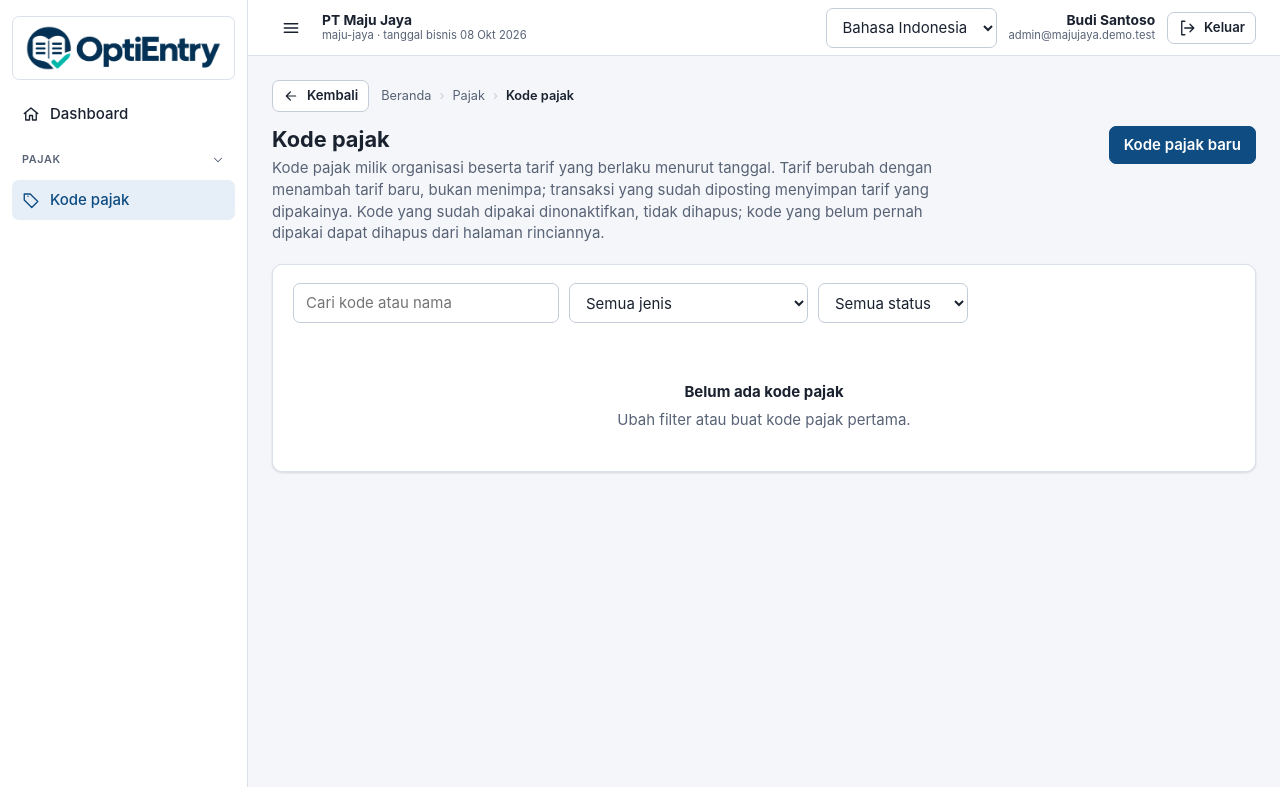
Test: tax codes list › creates a code with its first rate and sends the destination as neither account nor role (the type default)
Click the button "Kode pajak baru" at (1182, 145), box [1109, 126, 1256, 164]
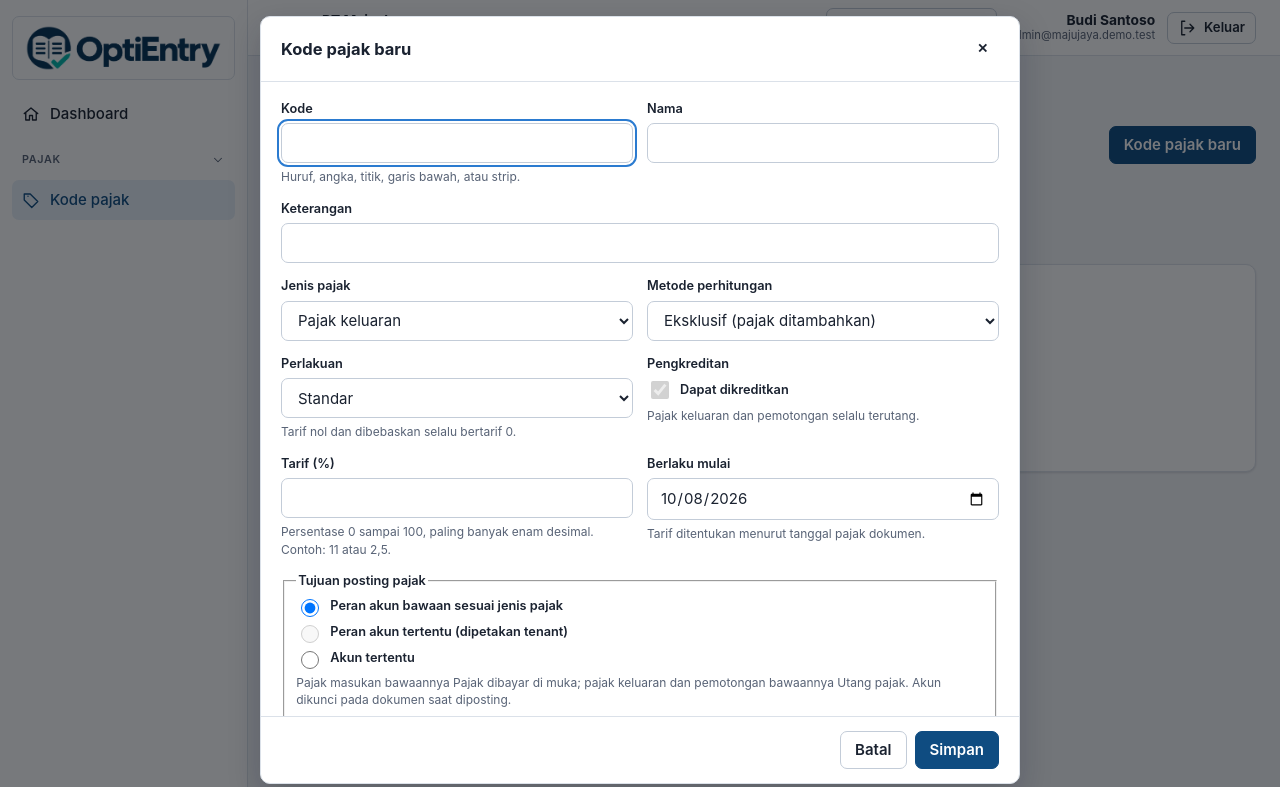
Type "ppn-keluaran" into the field labelled "Kode" at (457, 144), box [281, 124, 633, 164]
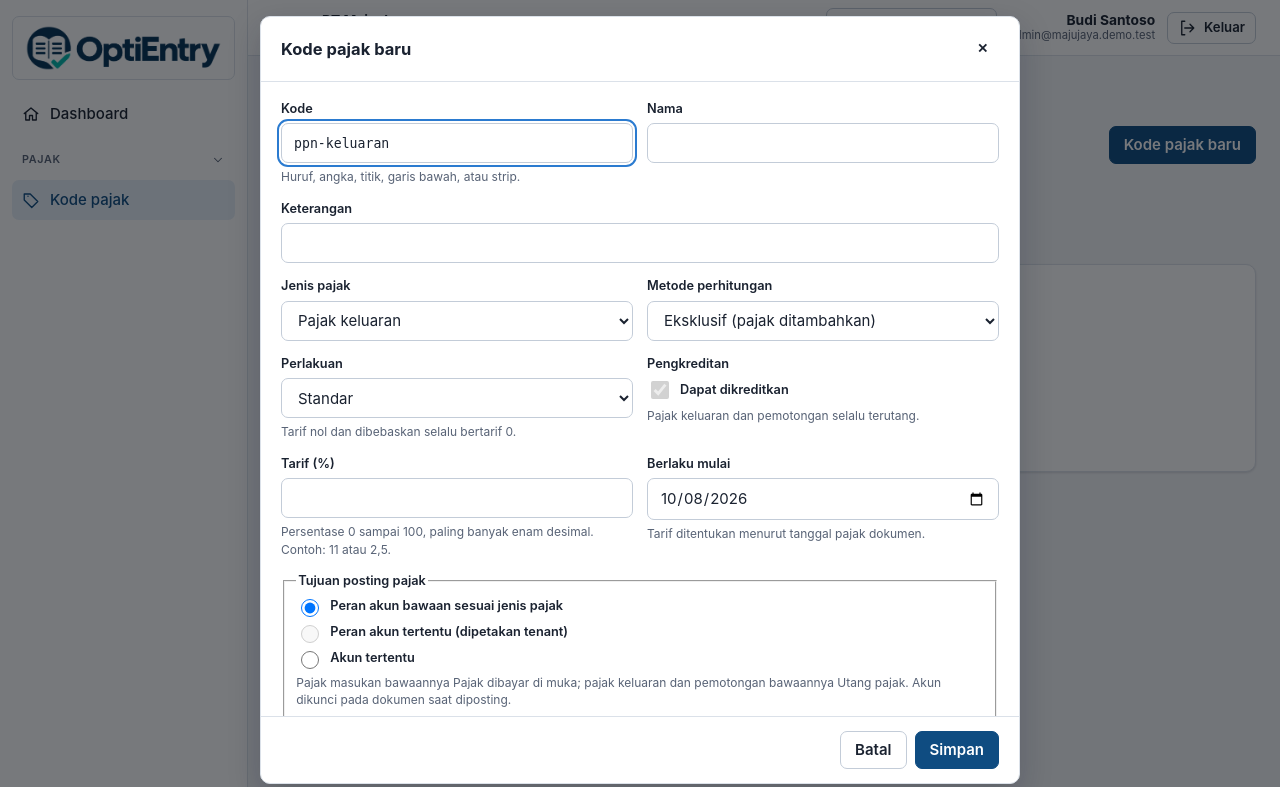
Type "PPN Keluaran" into the field labelled "Nama" at (823, 144), box [647, 124, 999, 164]
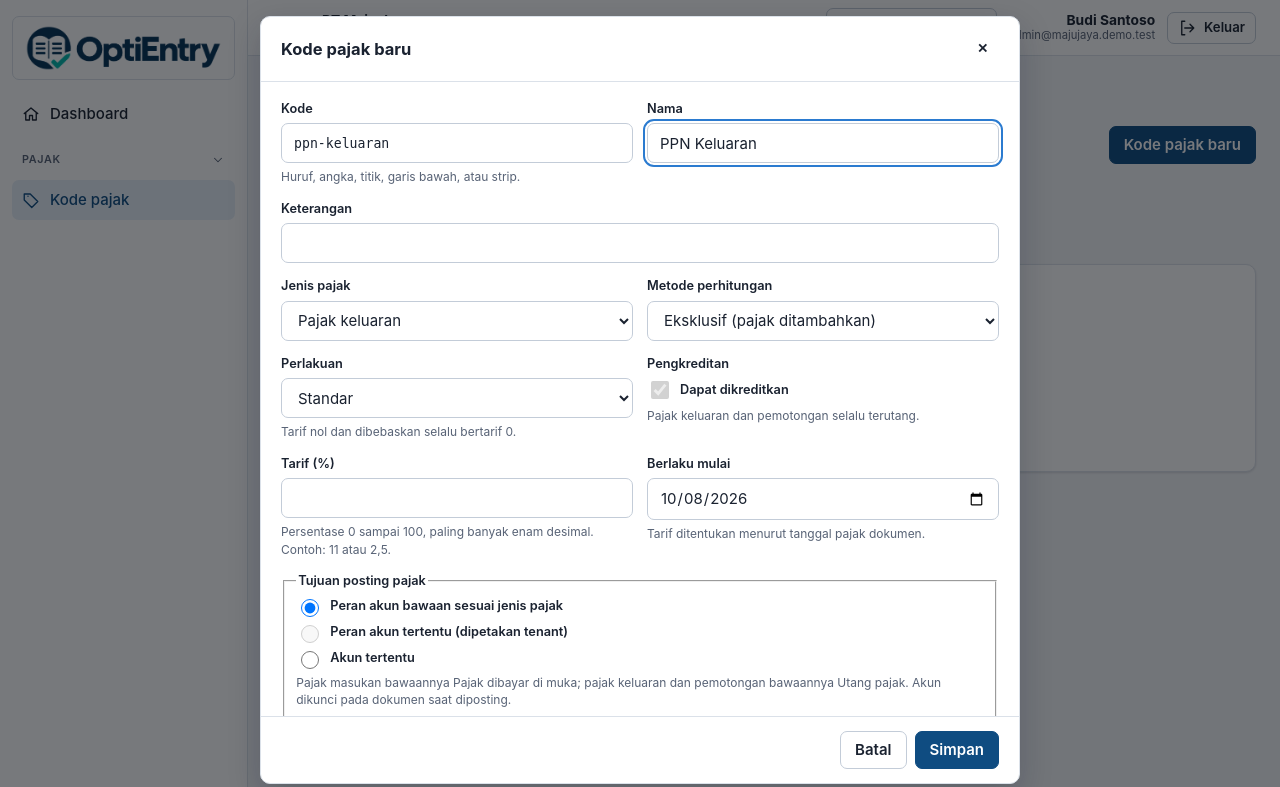
Type "11" into the field labelled "Tarif (%)" at (457, 498), box [281, 478, 633, 518]
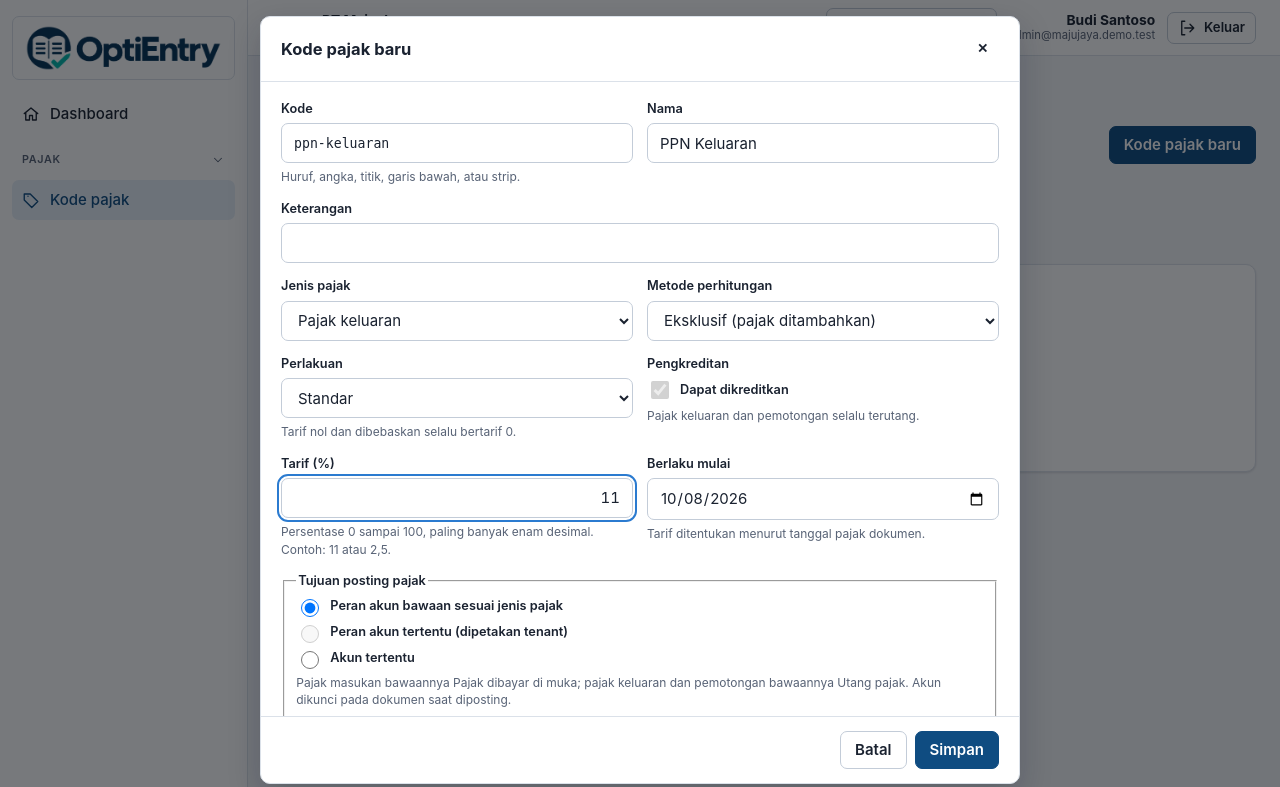
Click the button "Simpan" at (957, 750), box [914, 731, 999, 769]
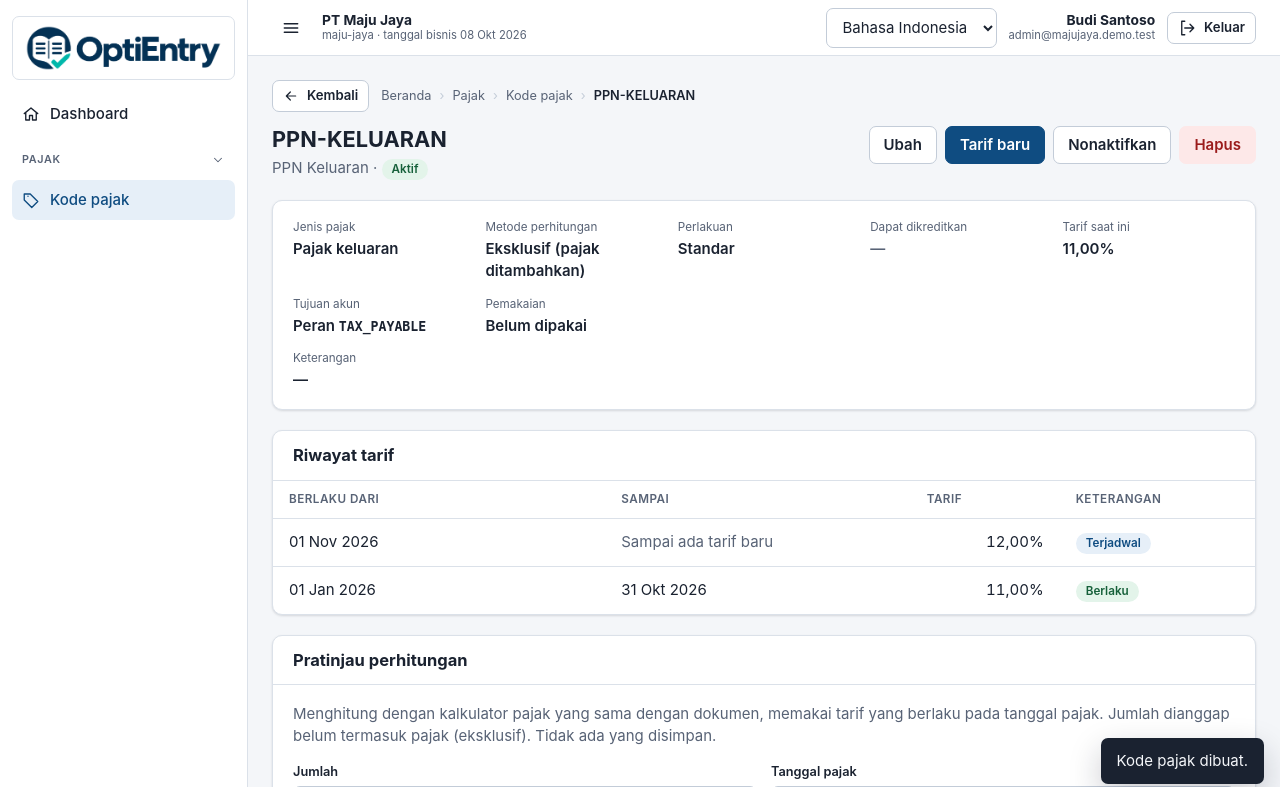
Result: the text "Kode pajak dibuat." is shown at [1101, 738, 1264, 784]
Result: the heading "PPN-KELUARAN" is shown at [272, 126, 447, 153]
